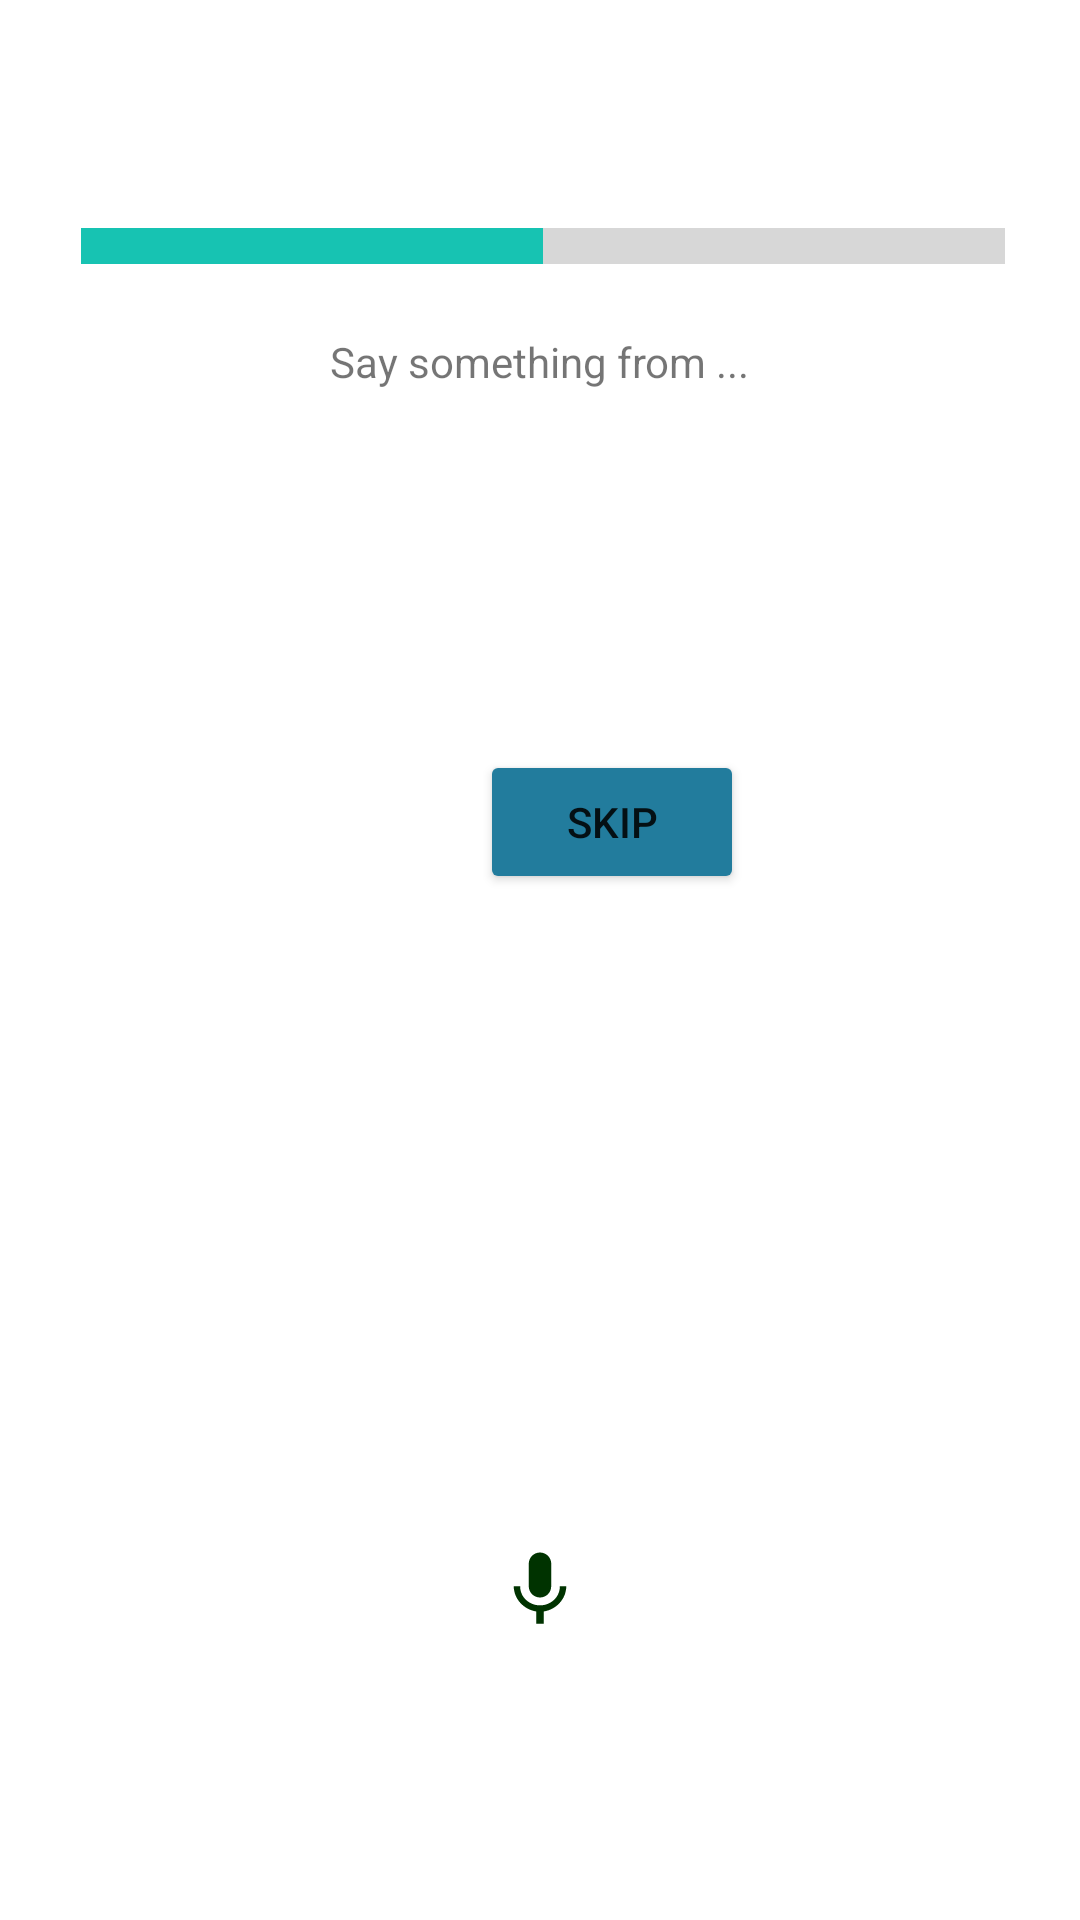

Icon click points for this 1080x1920 phone screenshot, format point (x, y):
mic: point (540, 1588)
